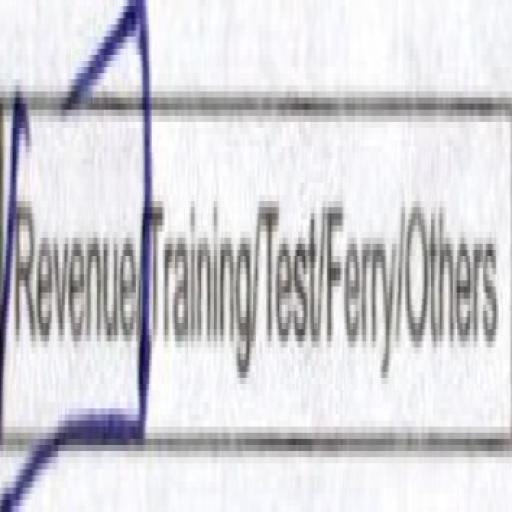check: (1, 0, 148, 512)
